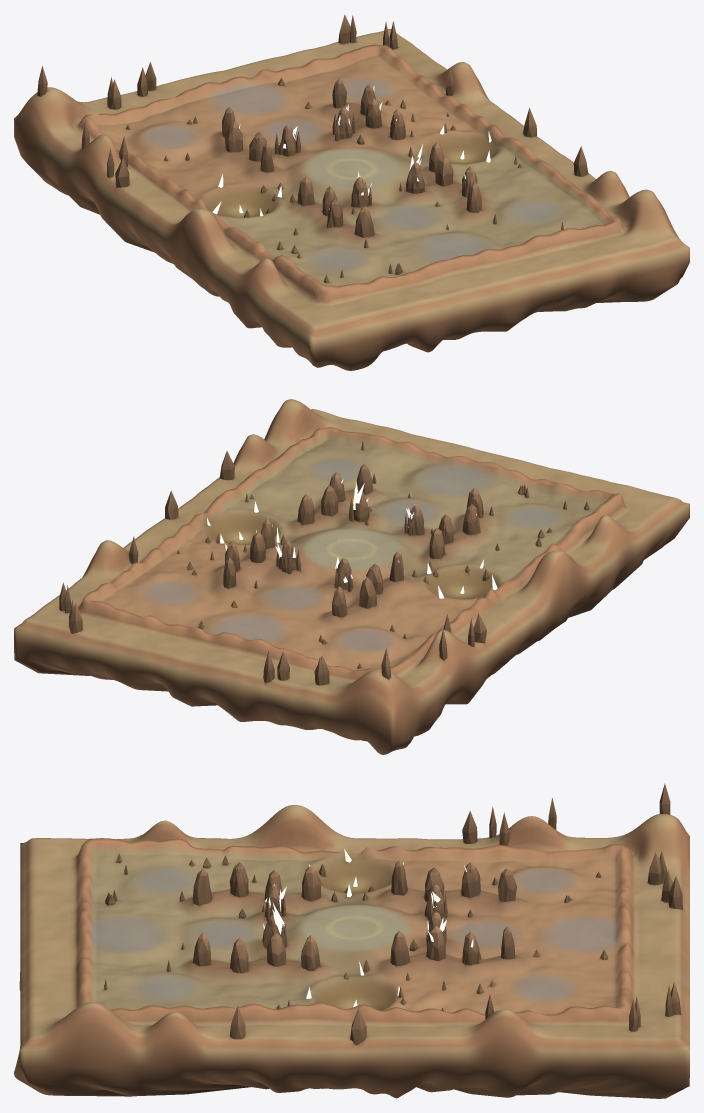
The model's file is battlefield.glb.
The picture shows the model from 3 angles, top to bottom: view 1: azimuth 30°, elevation 25°; view 2: azimuth 150°, elevation 25°; view 3: azimuth 270°, elevation 25°; orthographic projection. The views are drawn at different scales.
Visible parts, largest first — view 1: Island, Rocks, Crystals; view 2: Island, Rocks, Crystals; view 3: Island, Rocks, Crystals.
Part boxes in pixels (box(x1,y1,x2,y2)): Island: box(14, 29, 689, 370); Rocks: box(37, 14, 588, 283); Crystals: box(212, 85, 491, 216); Island: box(14, 399, 689, 754); Rocks: box(59, 441, 589, 685); Crystals: box(207, 479, 497, 598); Island: box(14, 805, 689, 1098); Rocks: box(104, 783, 682, 1045); Crystals: box(263, 849, 473, 1007).
Bounding box in the file's own units: 12.85 × 5.81 × 17.54.
